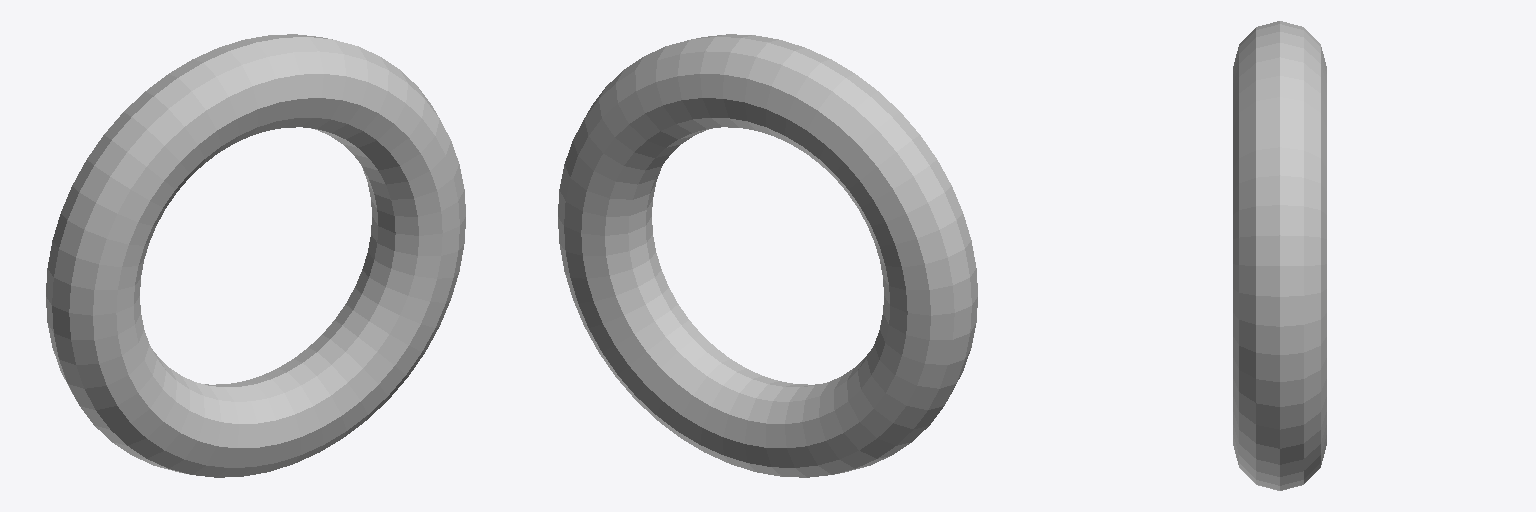
File: Portal.obj
The picture shows the model from 3 angles: view 1: azimuth 30°, elevation 25°; view 2: azimuth 150°, elevation 25°; view 3: azimuth 270°, elevation 25°; orthographic projection.
Visible parts, largest first — view 1: Torus; view 2: Torus; view 3: Torus.
Boxes of the visible parts, box(x1,y1,x2,y2) form: Torus: box(46, 34, 465, 477); Torus: box(558, 34, 977, 477); Torus: box(1233, 21, 1326, 490).
Bounding box in the file's own units: 9.13 × 9.13 × 1.83.